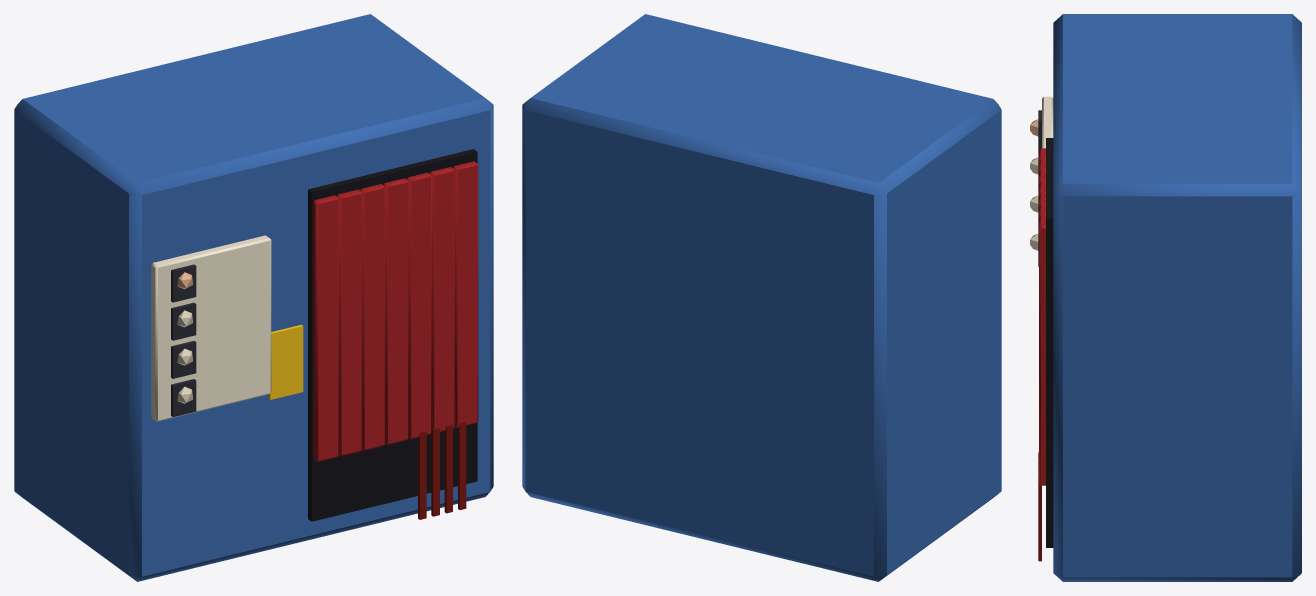
File: photo_booth.glb
3 views of the same model, side by side, from view 1: azimuth 30°, elevation 25°; view 2: azimuth 150°, elevation 25°; view 3: azimuth 270°, elevation 25° (orthographic).
Visible parts, largest first — view 1: photo_booth; view 2: photo_booth; view 3: photo_booth.
Boxes of the visible parts, box(x1,y1,x2,y2) form: photo_booth: box(14, 14, 493, 581); photo_booth: box(522, 14, 1001, 581); photo_booth: box(1030, 14, 1301, 581).
Bounding box in the file's own units: 2.2 × 2.3 × 1.42.
